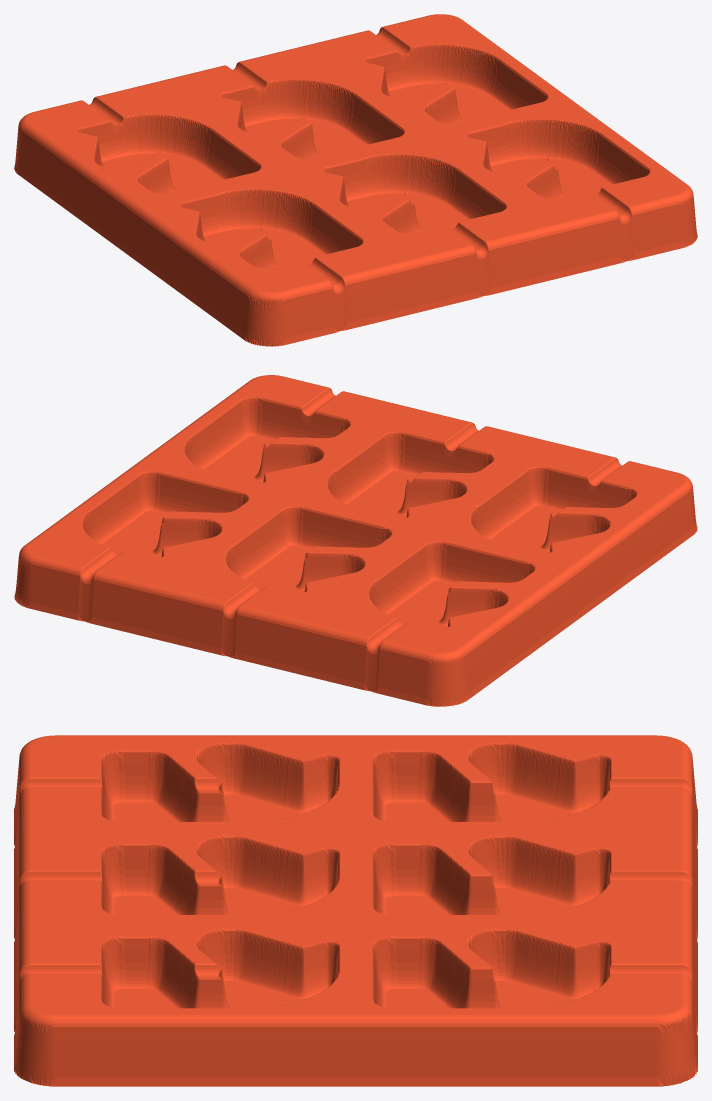
Rendered from mold.glb.
3 views of the same model, one above another, from view 1: azimuth 30°, elevation 25°; view 2: azimuth 150°, elevation 25°; view 3: azimuth 270°, elevation 25° (orthographic). The views are drawn at different scales.
Parts seen in each view (by area): view 1: geometry_0; view 2: geometry_0; view 3: geometry_0.
Boxes of the visible parts, x1=… form: geometry_0: x1=14, y1=14, x2=697, y2=346; geometry_0: x1=14, y1=375, x2=697, y2=706; geometry_0: x1=14, y1=735, x2=697, y2=1086.
Size of the model in its own units: 0.1492 by 0.0155 by 0.1477.
